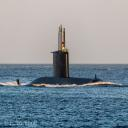submarine: (17, 24, 107, 86)
